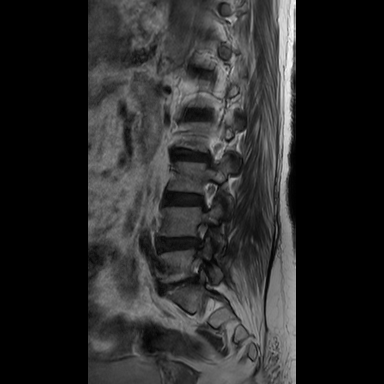LFS0: (187, 176, 225, 217)
